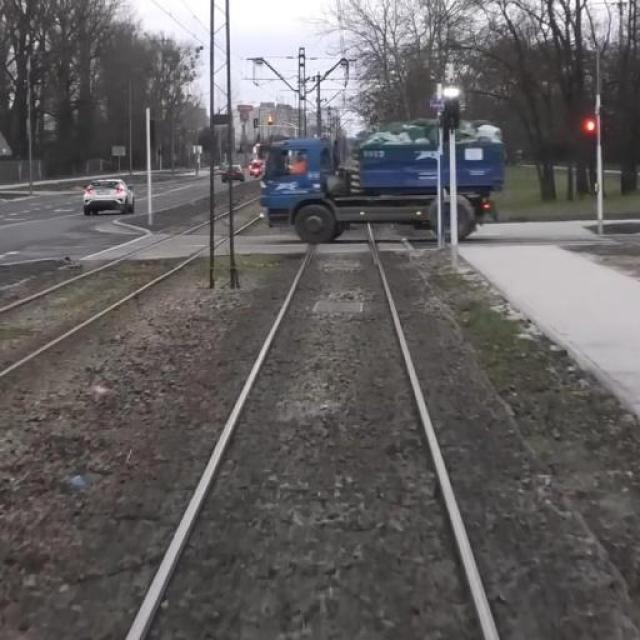vehicle: (255, 115, 502, 251), (78, 173, 141, 222)
